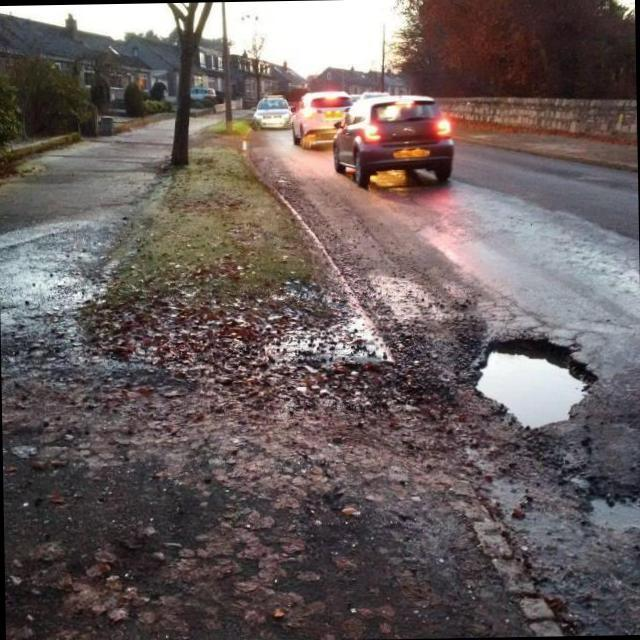Pothole: (473, 336, 598, 428)
